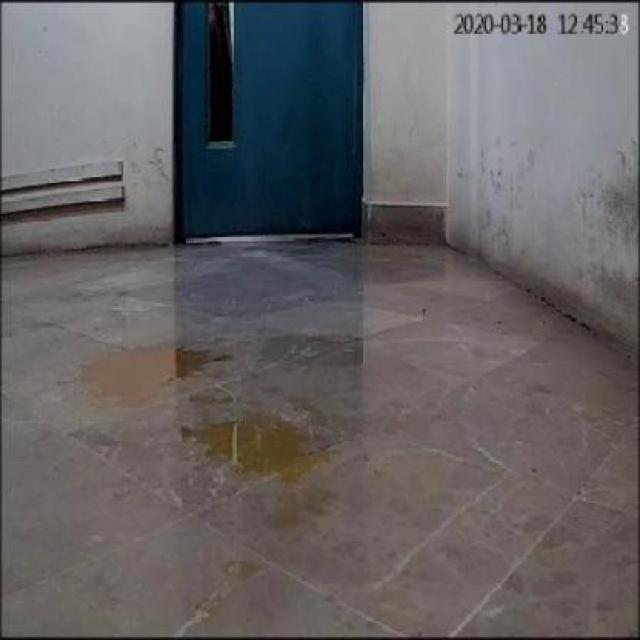spillage: (179, 414, 328, 485), (59, 345, 224, 409)
